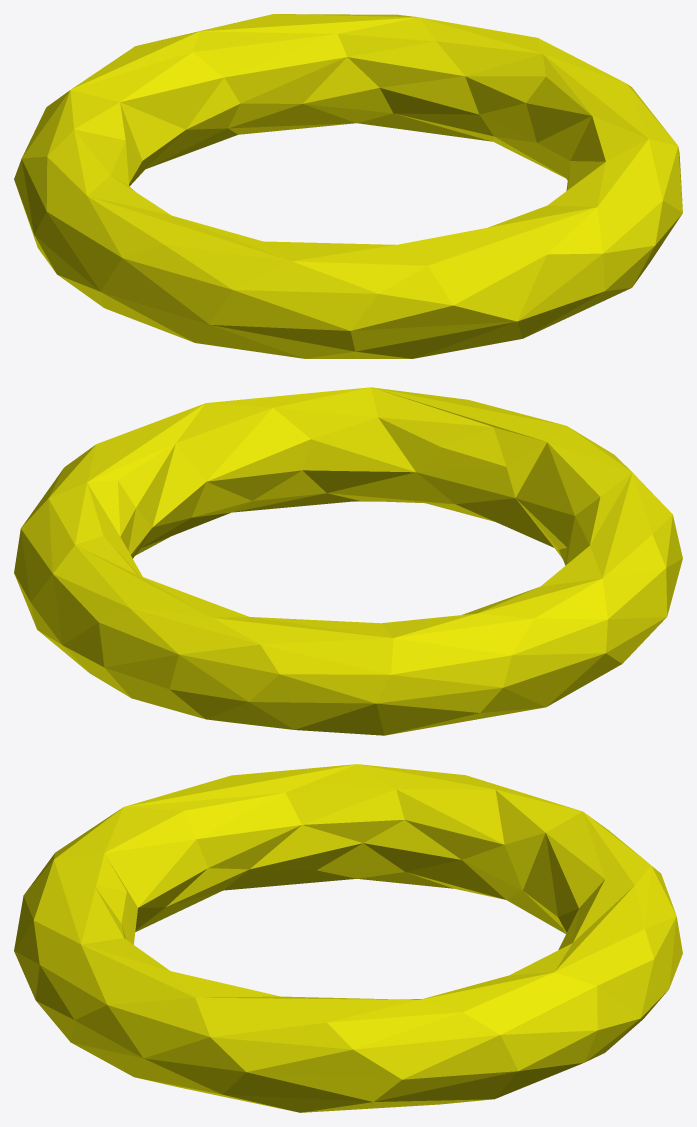
File: RingDemo2017.fbx
3 renders of one model, top to bottom at view 1: azimuth 30°, elevation 25°; view 2: azimuth 150°, elevation 25°; view 3: azimuth 270°, elevation 25°, orthographic.
Parts seen in each view (by area): view 1: Torus; view 2: Torus; view 3: Torus.
Part boxes in pixels (x1,y1,x2,y2): Torus: [14, 14, 682, 358]; Torus: [14, 387, 682, 735]; Torus: [14, 764, 682, 1112].
Size of the model in its own units: 346 by 59.84 by 350.
